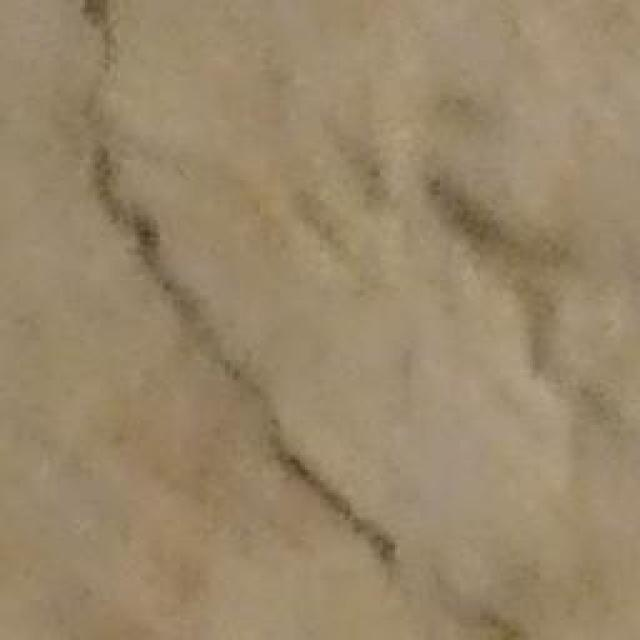Annular: (58, 0, 527, 640)
